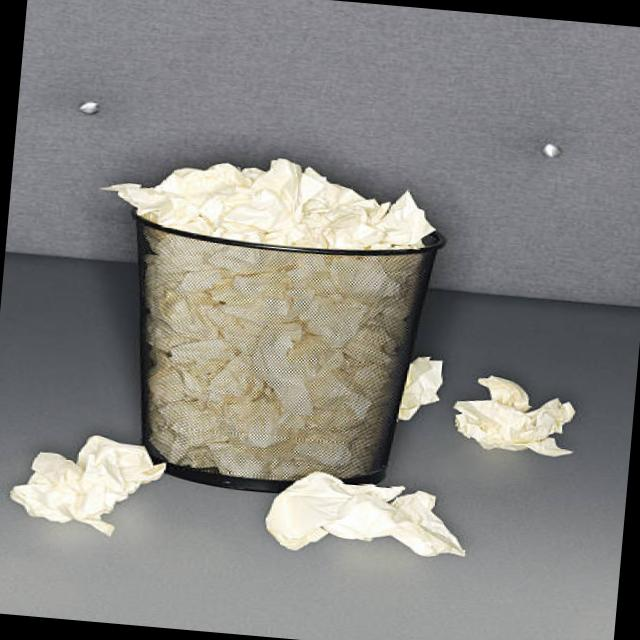electronic: (92, 140, 438, 258), (261, 466, 470, 564), (5, 426, 168, 540), (448, 369, 578, 458), (394, 352, 446, 424)
